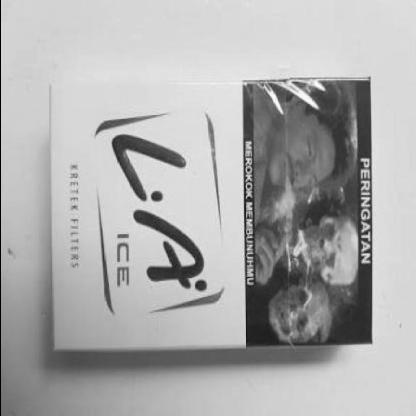objects: (48, 78, 370, 352)
